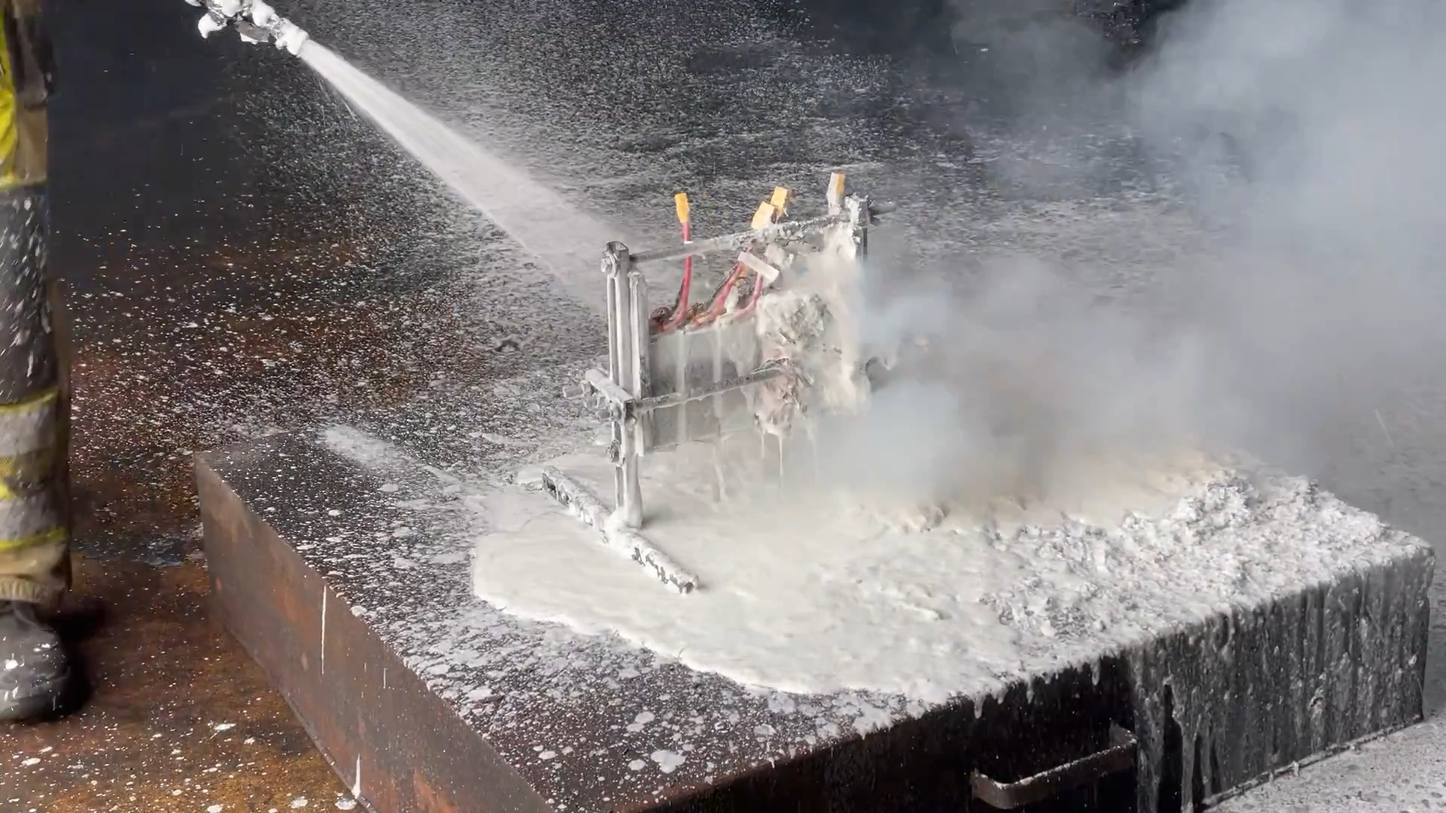smoke: (851, 0, 1446, 507)
